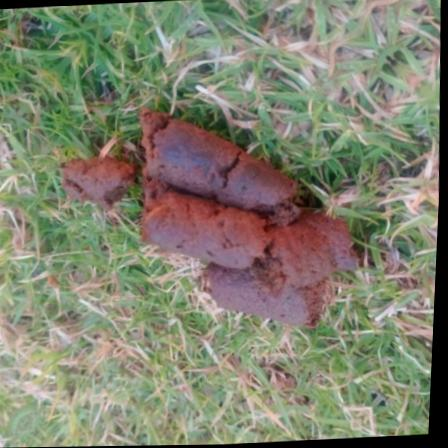dog-poop: (79, 113, 353, 313)
